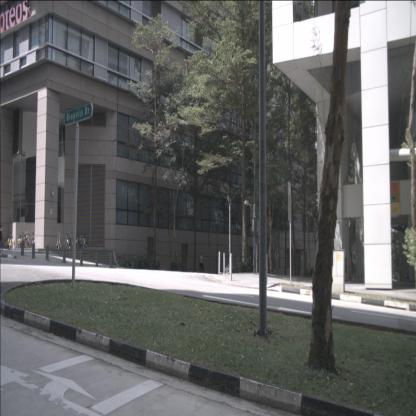human-pedestrian-adult: (0, 224, 4, 252), (200, 253, 204, 274)
vehicle-bicycle: (3, 232, 15, 250)
